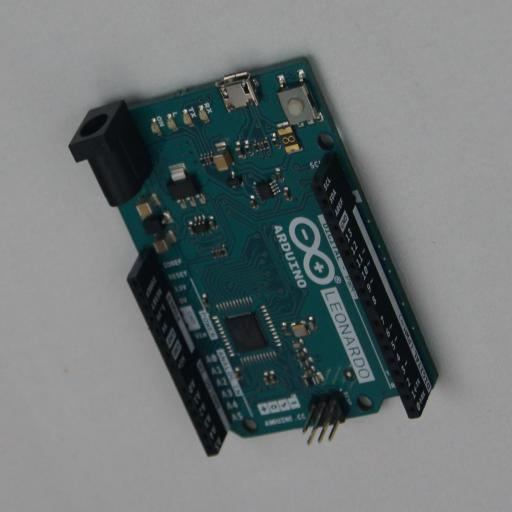Arduino Leonardo: (68, 55, 440, 456)
